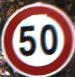Speed Limit -50-: (0, 0, 74, 76)
